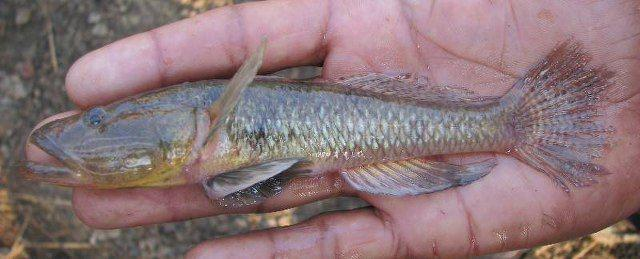Goby: (22, 38, 626, 205)
